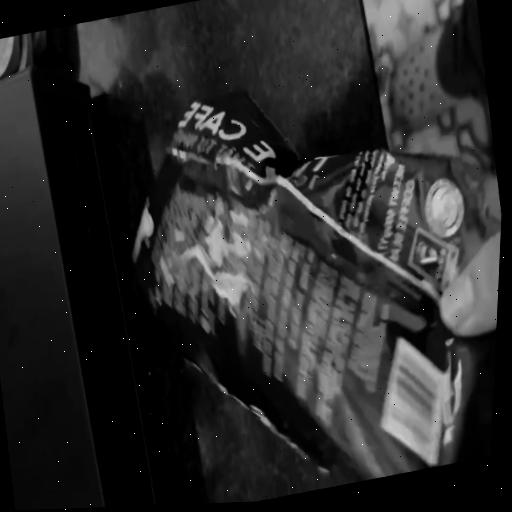cafe_hat: (130, 91, 502, 484)
